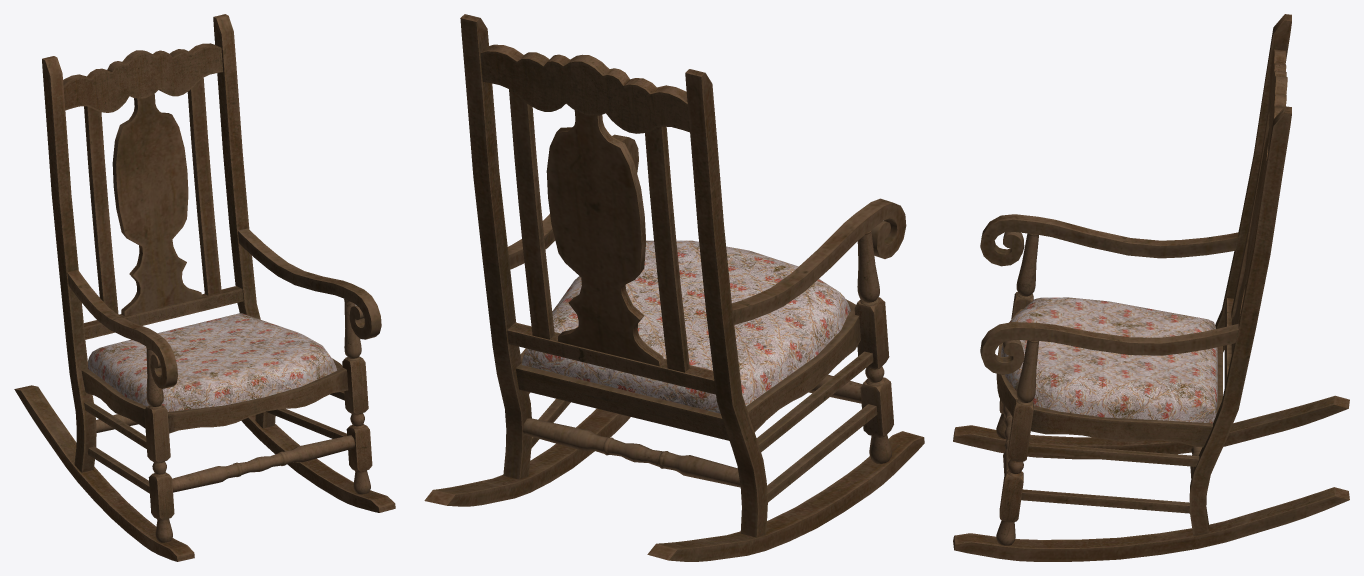
The model's file is antique_rocking_chair.glb.
3 views of the same model, side by side, from view 1: azimuth 30°, elevation 25°; view 2: azimuth 150°, elevation 25°; view 3: azimuth 270°, elevation 25° (orthographic). The views are drawn at different scales.
Parts seen in each view (by area): view 1: smProp_guestRoom_mecedora; view 2: smProp_guestRoom_mecedora; view 3: smProp_guestRoom_mecedora.
Part boxes in pixels (x1=…): smProp_guestRoom_mecedora: x1=14, y1=14, x2=395, y2=561; smProp_guestRoom_mecedora: x1=424, y1=14, x2=924, y2=561; smProp_guestRoom_mecedora: x1=953, y1=14, x2=1349, y2=561.
Size of the model in its own units: 0.7273 by 1.28 by 1.04.
1 material, 1 textured.
